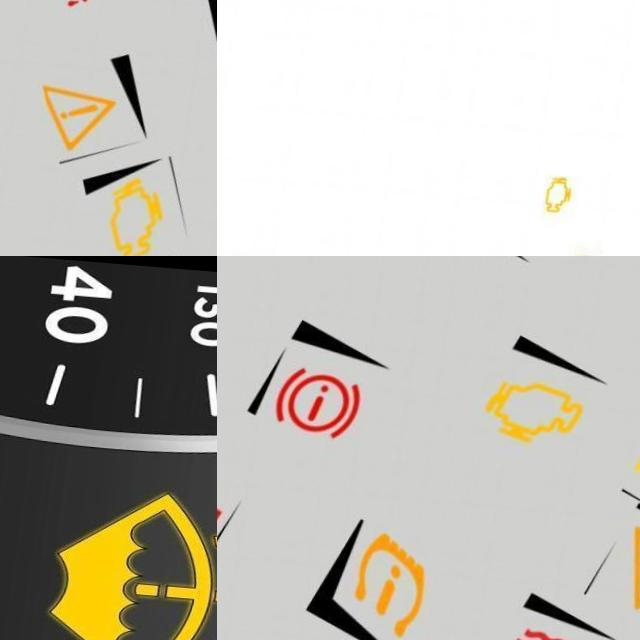Washer Fluid: (49, 478, 217, 640)
